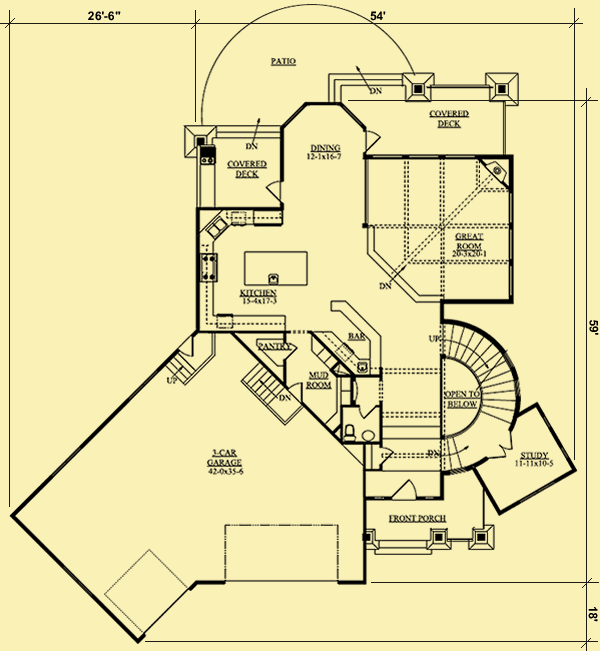door: (389, 477, 421, 501), (363, 127, 383, 153), (358, 401, 377, 420)
kitchen_bar: (241, 246, 314, 291)
large_sink: (341, 417, 358, 442)
stairs: (435, 322, 523, 476), (241, 362, 308, 429), (162, 330, 221, 391)
twin_sink: (206, 216, 234, 241)
